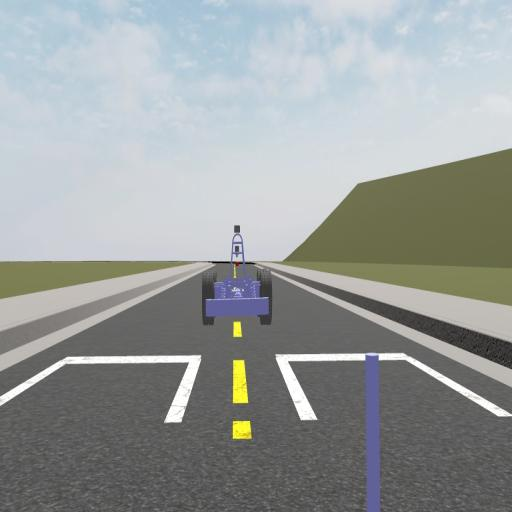ERP-42: (201, 225, 273, 322)
